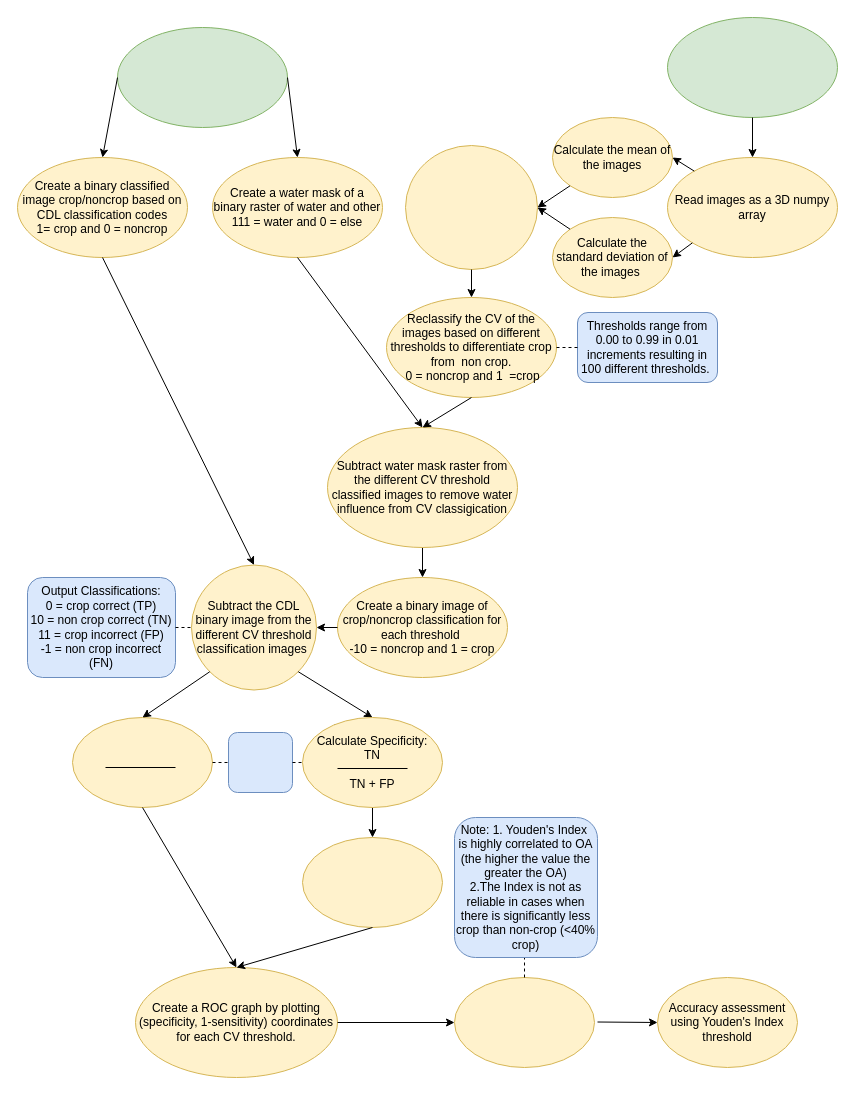
The diagram is 855 pixels wide and 1095 high, and some of its shapes have lost their labels. The centre of each missing label's shape, as x and y in pixels:
"Calculate Sensitivity: TP TP + FN" goes at pixel 142 762.
"Calculate the CV of the images by dividing the standard deviation by the mean" goes at pixel 471 207.
"Calculated for each CV threshold" goes at pixel 260 762.
"CDL" goes at pixel 202 77.
"Subtract Specificity from one for each CV threshold" goes at pixel 372 882.
"Time series of raster SAR images" goes at pixel 752 67.
"Use Youden's Index (TPR-FPR) to select best threshold for classification" goes at pixel 524 1022.
